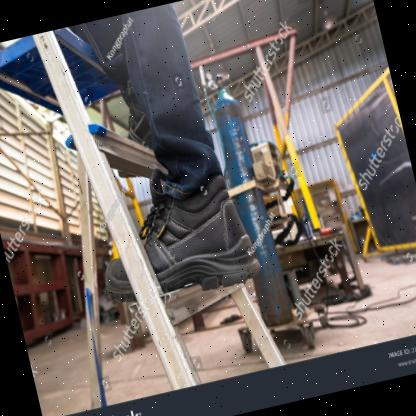bota: (81, 152, 266, 314)
